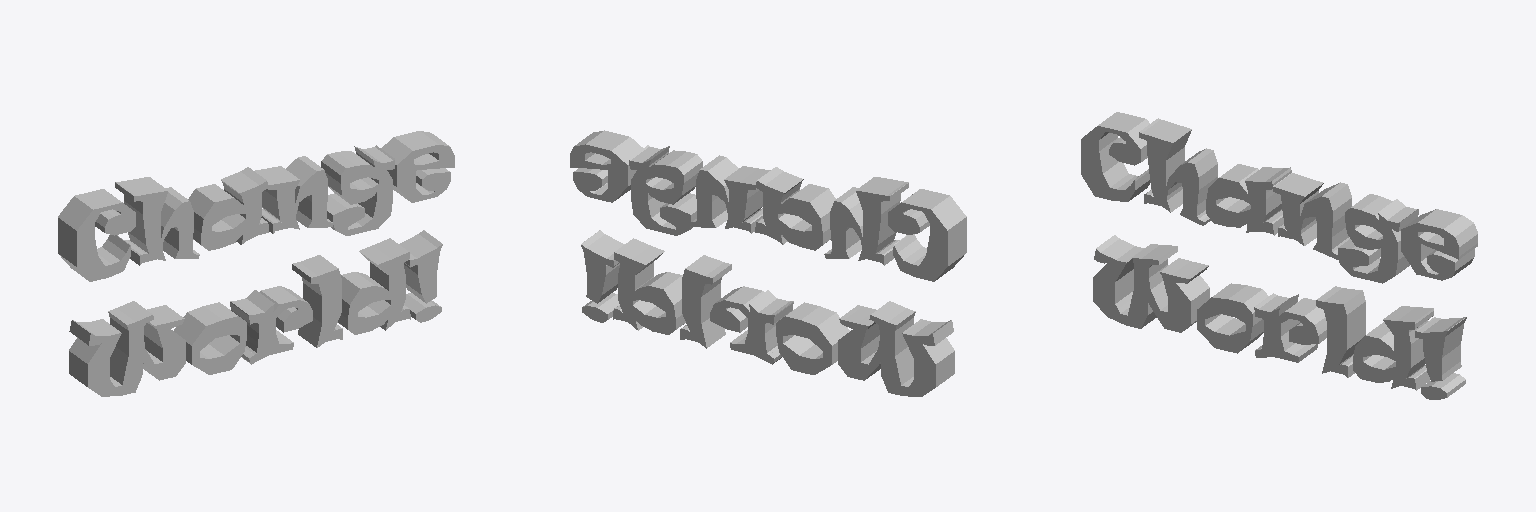
The model's file is changeworld.obj.
3 renders of one model, left to right at view 1: azimuth 30°, elevation 25°; view 2: azimuth 150°, elevation 25°; view 3: azimuth 330°, elevation 25°, orthographic.
Visible parts, largest first — view 1: Text; view 2: Text; view 3: Text.
Part boxes in pixels (left/top/right/bottom): Text: left=58, top=131, right=454, bottom=396; Text: left=570, top=130, right=966, bottom=396; Text: left=1081, top=112, right=1477, bottom=399.
Bounding box in the file's own units: 34.22 × 17.11 × 3.05.